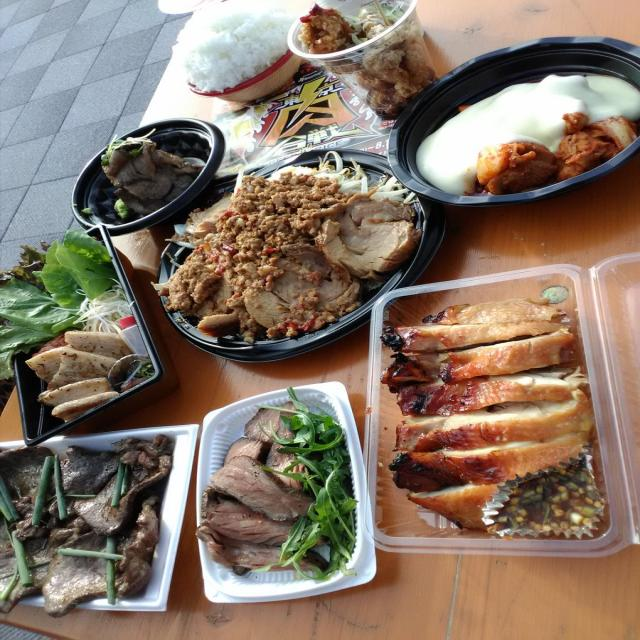com trang: (168, 6, 318, 91)
ga nuong: (367, 273, 629, 534)
ga ran: (425, 35, 640, 199), (302, 3, 455, 122)
heo quay: (180, 155, 426, 340)
rau cu muoi: (10, 235, 144, 438)
